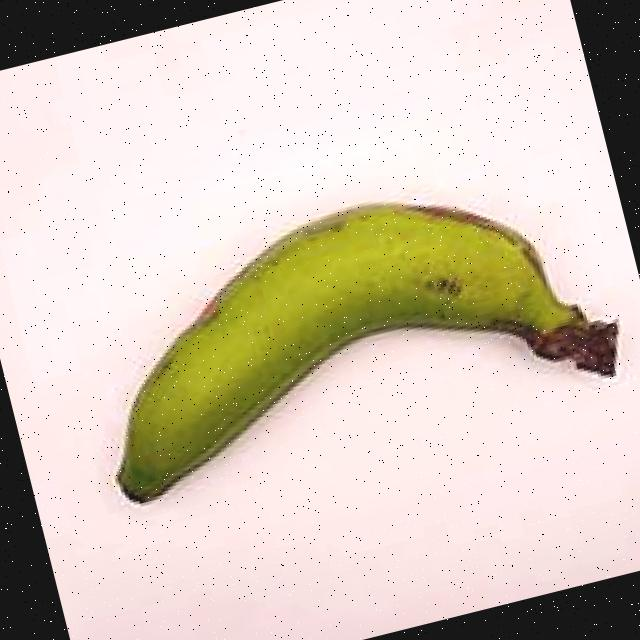Raw: (47, 141, 640, 556)
